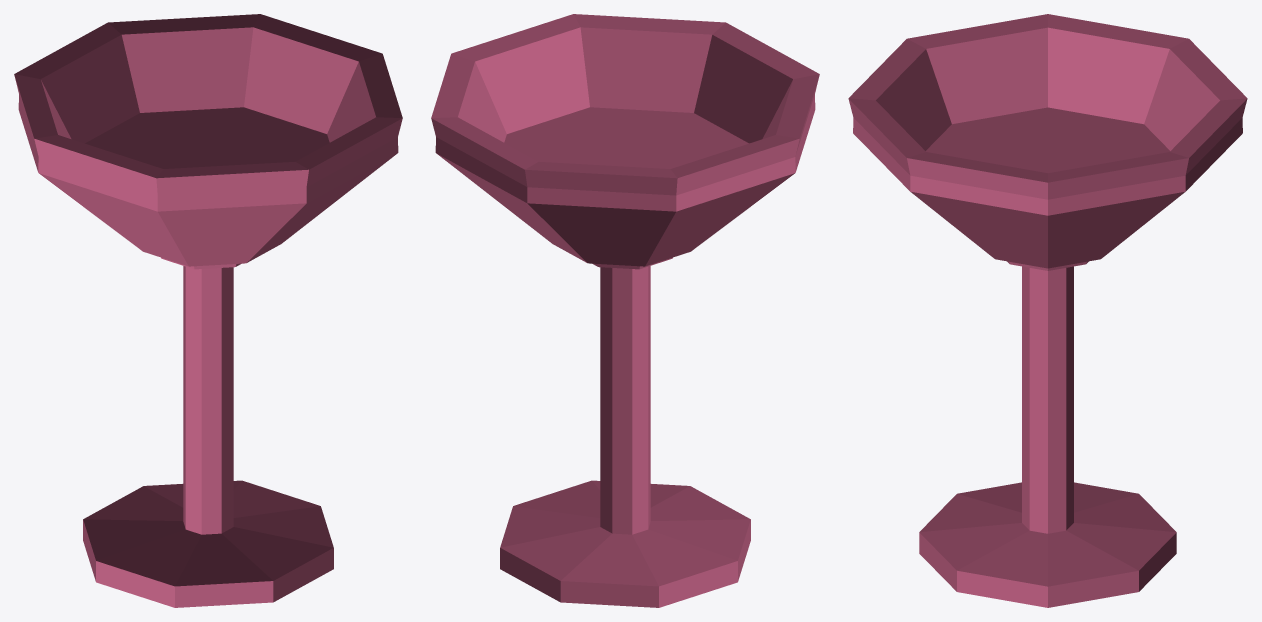
The model's file is Cocktail Glass 3.fbx.
3 renders of one model, left to right at view 1: azimuth 30°, elevation 25°; view 2: azimuth 150°, elevation 25°; view 3: azimuth 270°, elevation 25°, orthographic.
Parts seen in each view (by area): view 1: Node 0; view 2: Node 0; view 3: Node 0.
Part boxes in pixels (x1=…): Node 0: x1=14, y1=14, x2=402, y2=607; Node 0: x1=431, y1=14, x2=819, y2=607; Node 0: x1=848, y1=14, x2=1247, y2=607.
Size of the model in its own units: 0.1955 by 0.2459 by 0.1955.
